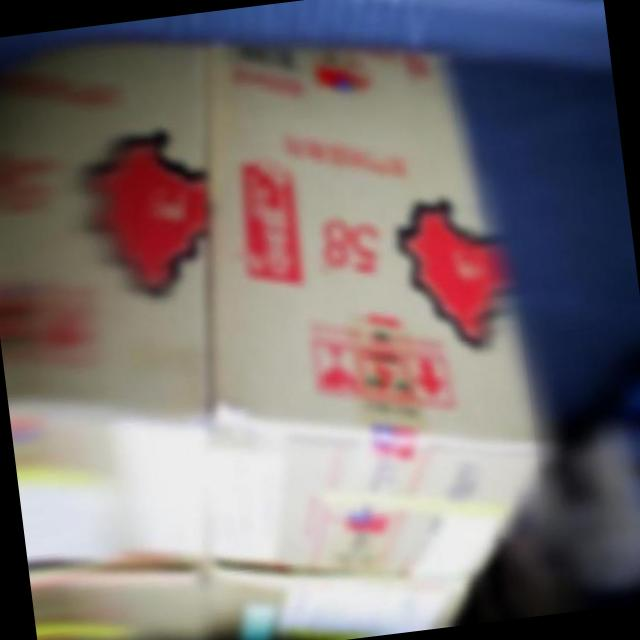box: (163, 0, 562, 636), (0, 18, 220, 593)
